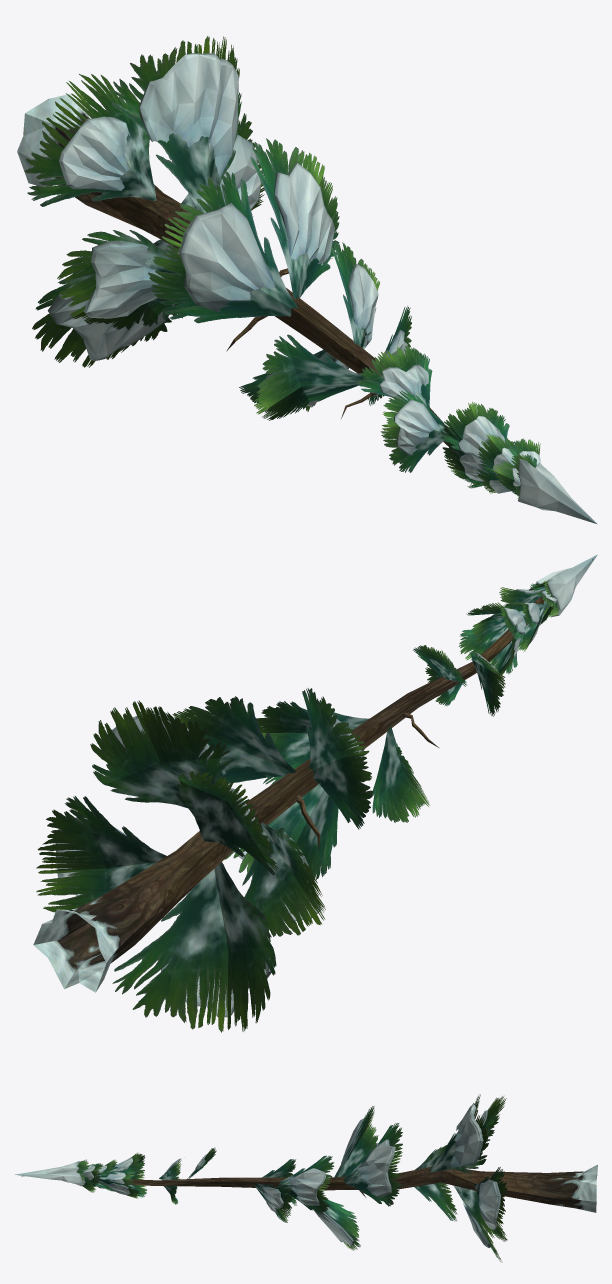
File: huodong_fuben_382_shu_02.obj
3 views of the same model, one above another, from view 1: azimuth 30°, elevation 25°; view 2: azimuth 150°, elevation 25°; view 3: azimuth 270°, elevation 25° (orthographic). The views are drawn at different scales.
Parts seen in each view (by area): view 1: huodong_fuben_382_shu_02; view 2: huodong_fuben_382_shu_02; view 3: huodong_fuben_382_shu_02.
Boxes of the visible parts, left/top/right/bottom form: huodong_fuben_382_shu_02: left=17, top=36, right=597, bottom=524; huodong_fuben_382_shu_02: left=33, top=554, right=597, bottom=1032; huodong_fuben_382_shu_02: left=15, top=1094, right=597, bottom=1262.
Bounding box in the file's own units: 235 × 291 × 797.
Materials: 3 (3 with a texture image).
